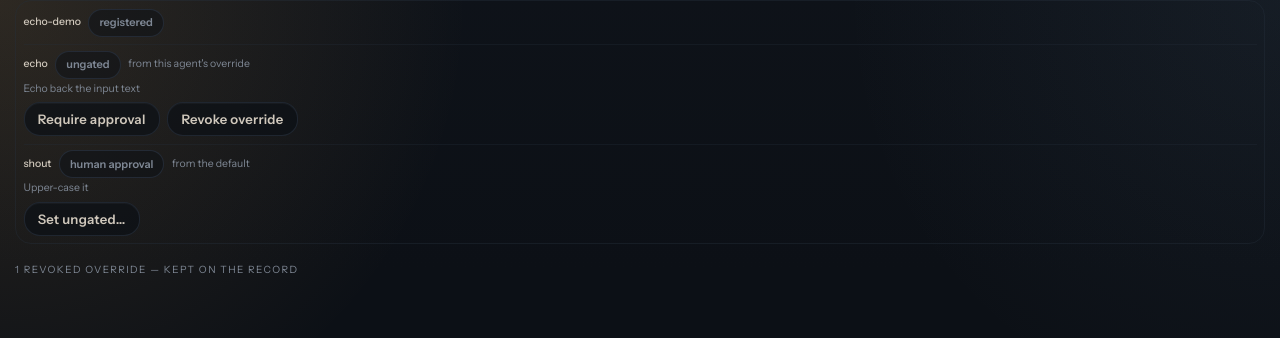
it: AgentMcpPanel › keeps revoked overrides to a collapsed count that expands
Expected: the text "revoked 2026-11-02 09:30" is not shown
Step 1. Click the button "1 revoked override — kept on the record" → (157, 269), box x1=15 y1=262 x2=298 y2=277
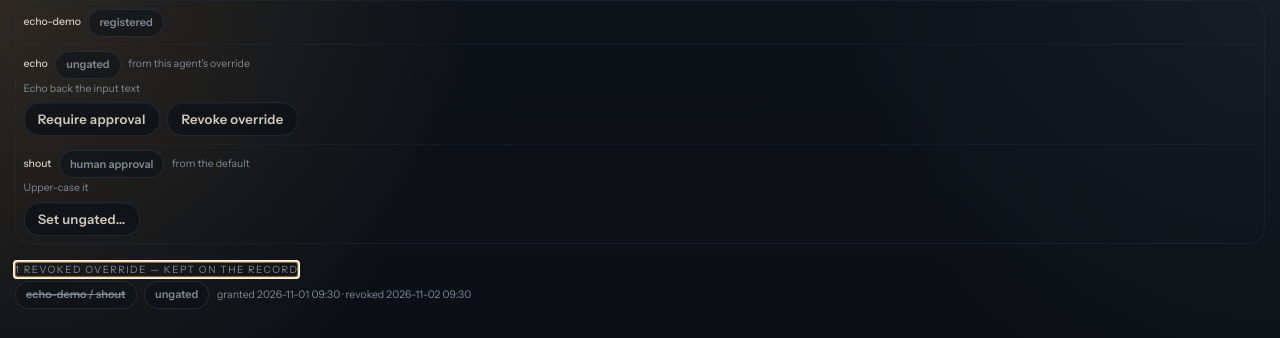
Expected: the text "granted 2026-11-01 09:30 · revoked 2026-11-02 09:30" is shown, x1=217 y1=286 x2=471 y2=303
